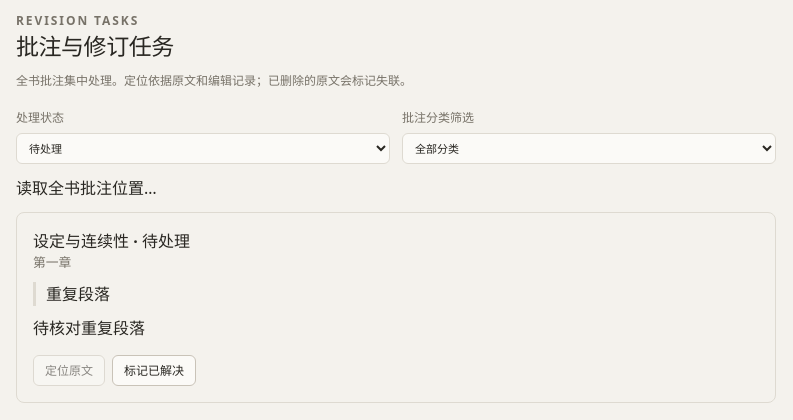
Scenario: global tasks retain orphan markers after reloading the document and filter by category
Step 1. Select "原文失联" in the dropdown labelled "处理状态" → (203, 149), box [16,133,390,164]
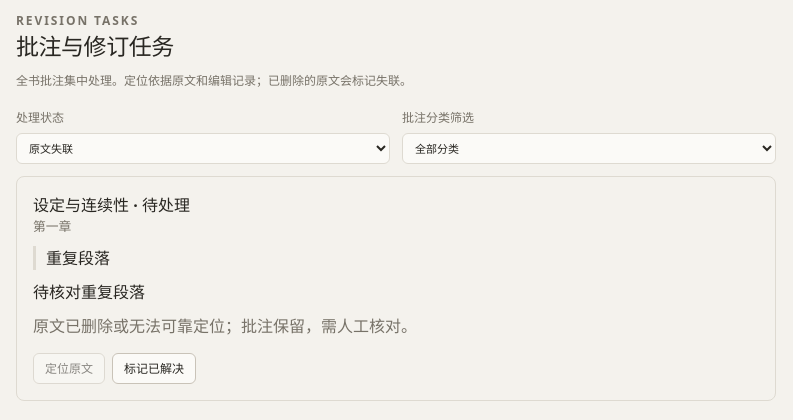
Expected: the button "定位原文" is disabled, [33,354,105,384]
Expected: the text "原文已删除或无法可靠定位；批注保留，需人工核对。" is shown, [33,316,417,338]
Step 2. Select "待查资料" in the dropdown labelled "批注分类筛选" → (589, 149), box [402,133,776,164]
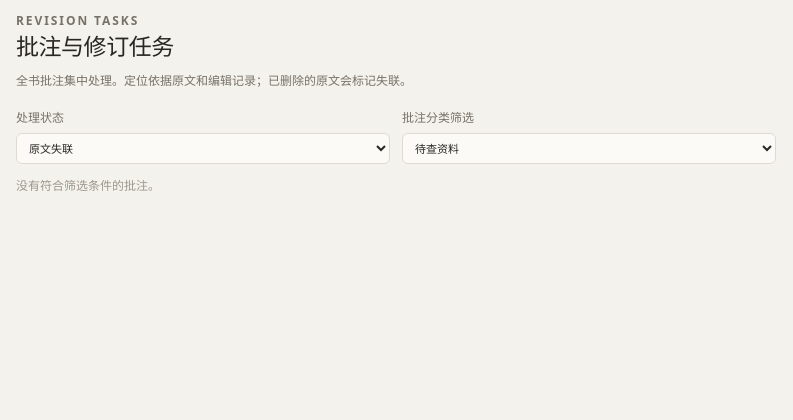
Expected: the text "待核对重复段落" is gone
